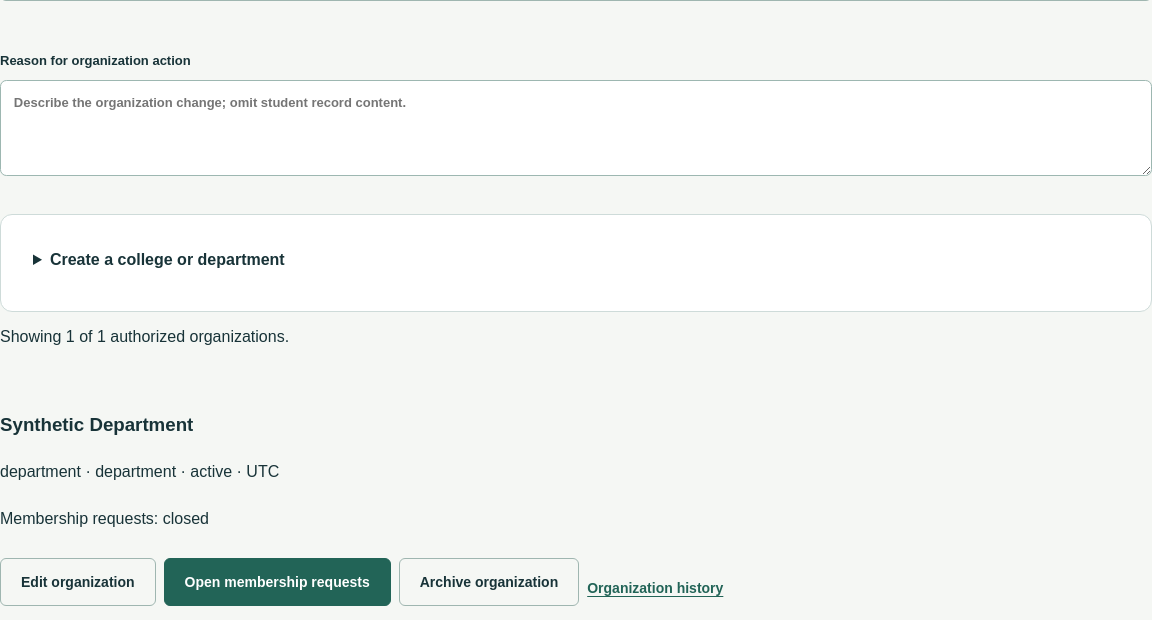
Test: requires a reason before changing enrollment
The width and height of the screenshot is (1152, 620).
(page scrolled)
Click the button "Open membership requests".
click(277, 582)  # box [164,558,391,606]
(page scrolled)
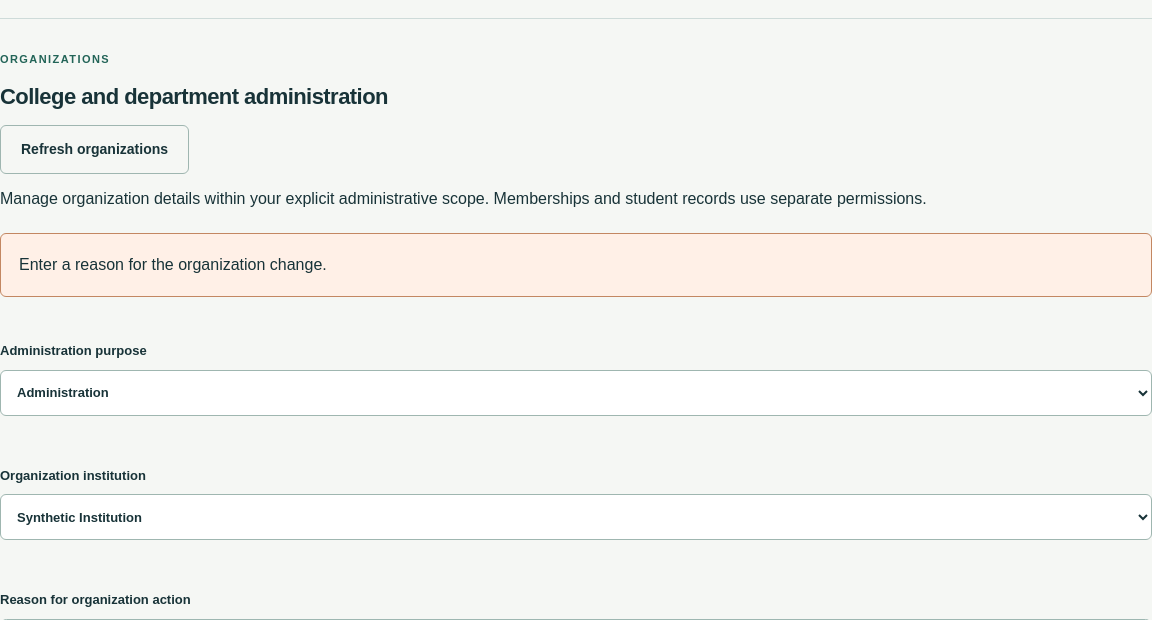
Check: the message named "Organization error" shows "Enter a reason", box [19,256,327,273]
